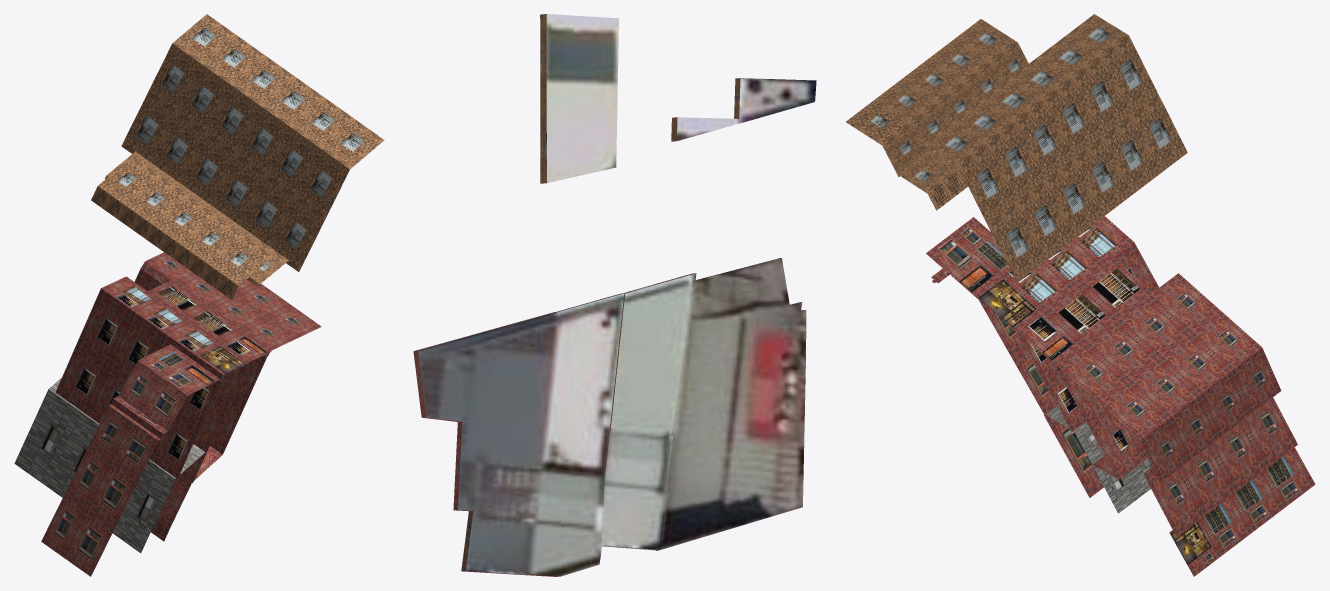
3 renders of one model, left to right at view 1: azimuth 30°, elevation 25°; view 2: azimuth 150°, elevation 25°; view 3: azimuth 270°, elevation 25°, orthographic. The views are drawn at different scales.
Bounding box in the file's own units: 34.03 × 52.32 × 42.59.
31 materials, 31 textured.
